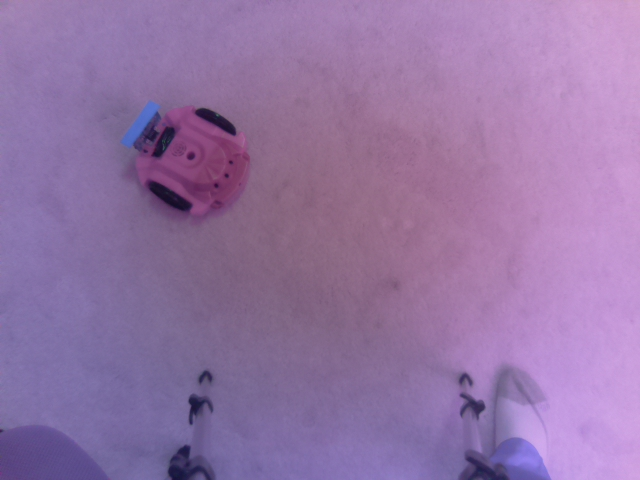board: (122, 101, 162, 153)
chassis: (118, 98, 256, 221)
